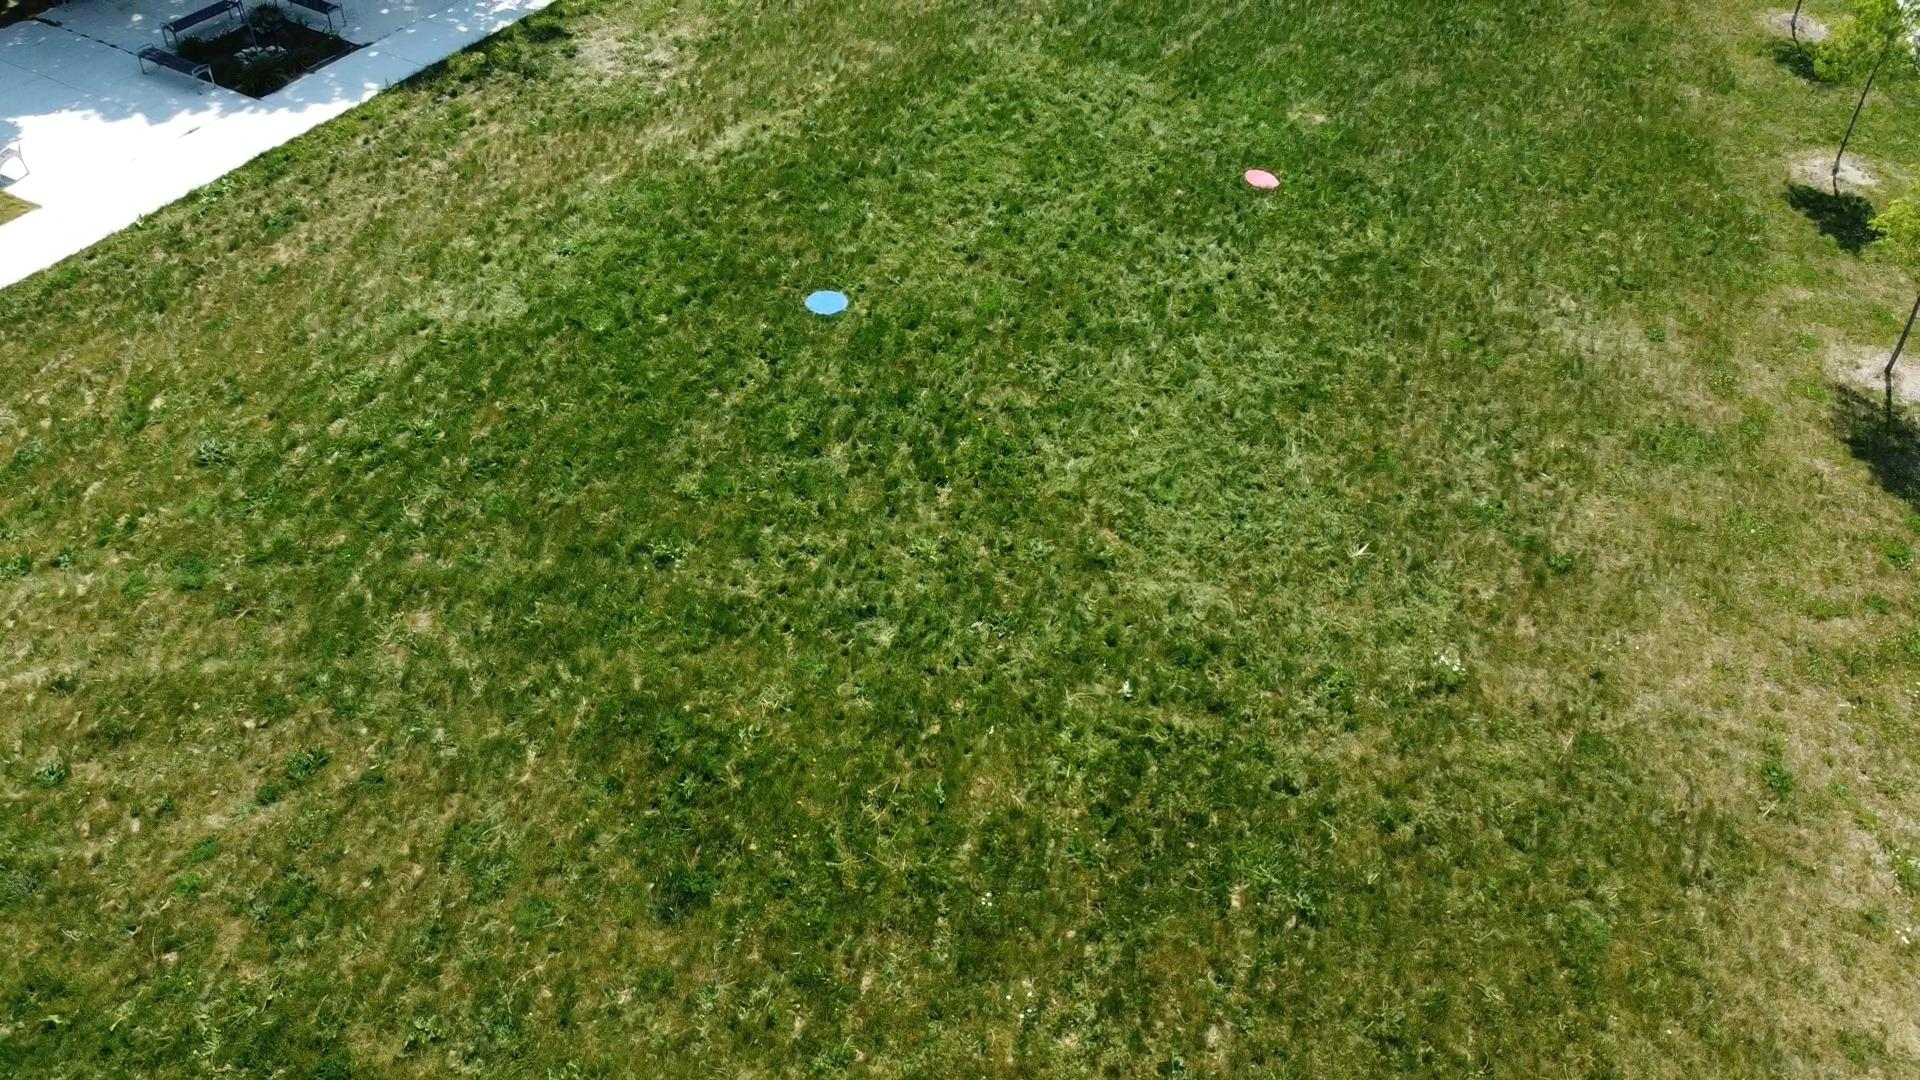Blue: (802, 289, 851, 318)
Red: (1242, 167, 1282, 191)
